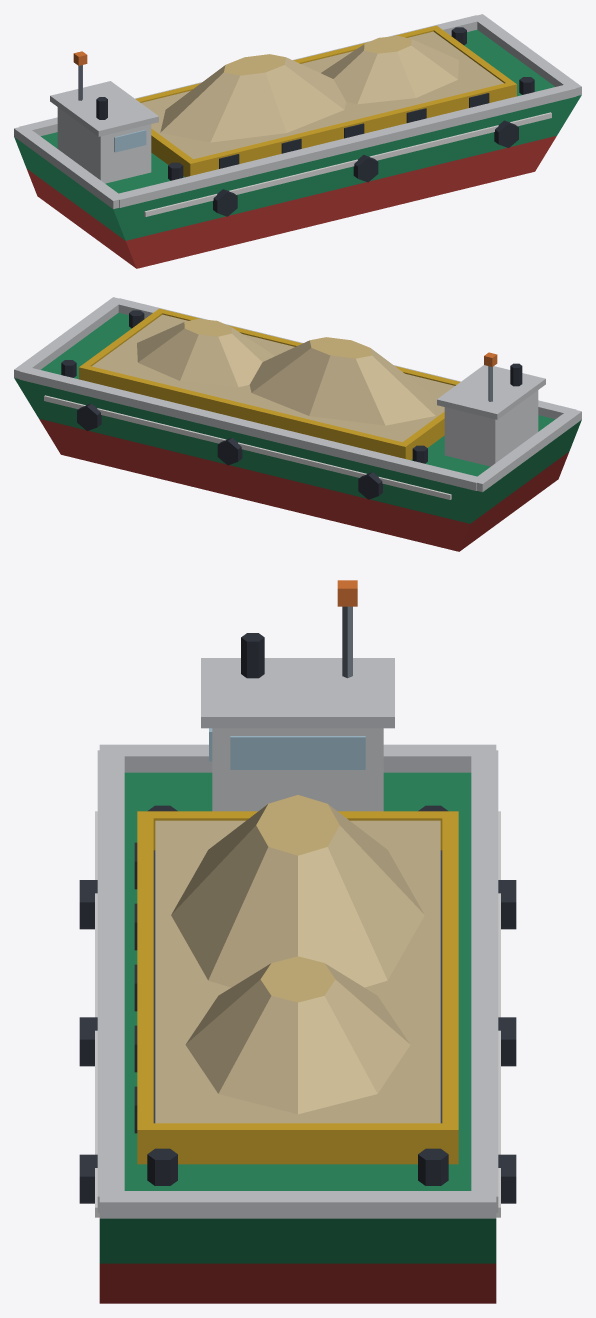
File: barge_sand.glb
3 renders of one model, top to bottom at view 1: azimuth 30°, elevation 25°; view 2: azimuth 150°, elevation 25°; view 3: azimuth 270°, elevation 25°, orthographic. The views are drawn at different scales.
Visible parts, largest first — view 1: hull, sand; view 2: hull, sand; view 3: hull, sand.
Part boxes in pixels (x1,y1,x2,y2): hull: (14, 14, 581, 268); sand: (141, 31, 503, 159); hull: (14, 297, 581, 551); sand: (92, 314, 454, 442); hull: (79, 580, 516, 1303); sand: (155, 795, 440, 1123).
Size of the model in its own units: 12 by 4.11 by 4.84.
